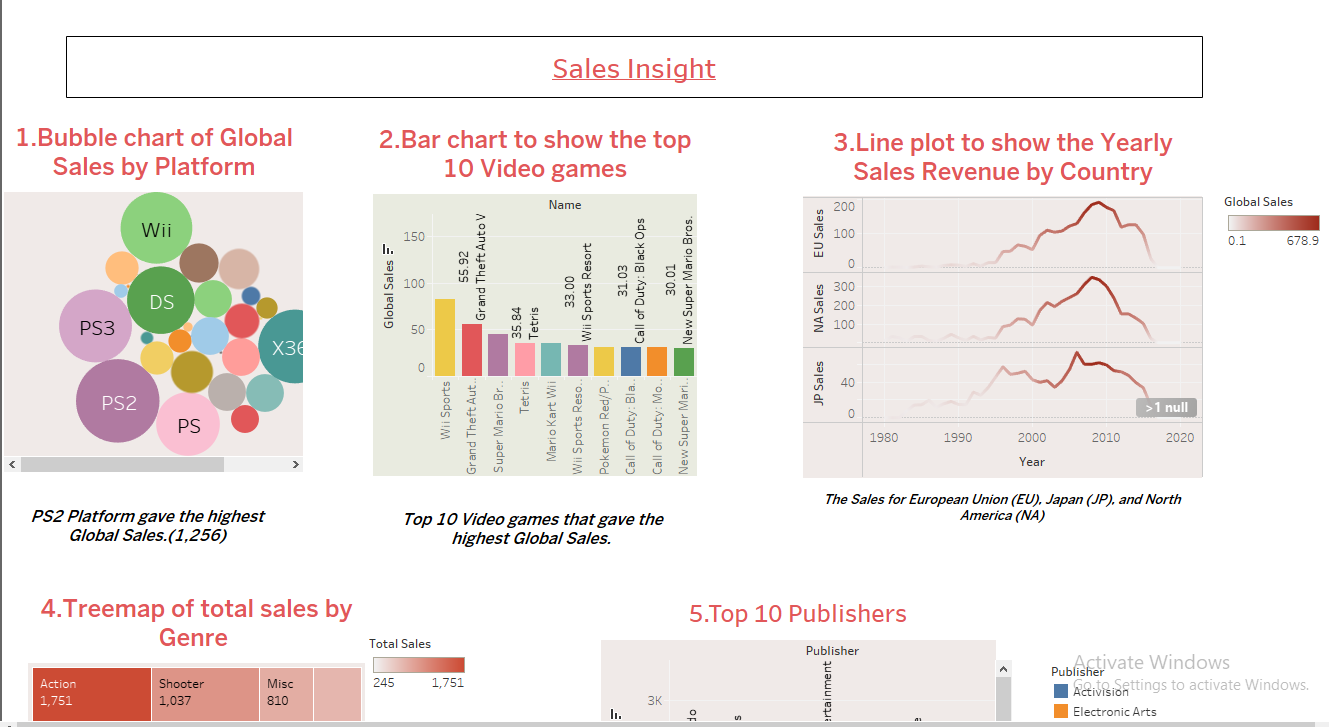

This screenshot's page, from the dashboard's own definition file:
{"tool":"tableau","page":{"name":"Dashboard 1","canvas":[1000,1000],"units":"permille","ordinal":0},"visuals":[{"type":"text","box":[48.4,70.4,832.3,60.2]},{"type":"worksheet","title":"Sheet 1","mark":"Circle","box":[2.6,150.9,219.3,345.4]},{"type":"worksheet","title":"Sheet 2","mark":"Automatic","rows":["Global_Sales"],"cols":["Name"],"box":[272.9,153.7,237,346.3]},{"type":"worksheet","title":"Sheet 3","mark":"Line","rows":["EU_Sales","NA_Sales","JP_Sales"],"cols":["Year"],"box":[588,156.5,292.7,345.4]},{"type":"legend","title":"Sheet 3","param":"[federated.0gh6z0h1s625r61esl8j80jw0f1v].[sum:Global_Sales:qk]","box":[896.4,223.2,72.9,126.9]},{"type":"text","box":[589.6,513,290.1,37]},{"type":"text","box":[4.2,517.6,208.3,64.8]},{"type":"text","box":[288,520.4,202.1,63.9]},{"type":"worksheet","title":"Sheet 4","mark":"Automatic","box":[20.8,611.1,246.3,292.6]},{"type":"worksheet","title":"Sheet 5","mark":"Automatic","rows":["Global_Sales"],"cols":["Publisher"],"box":[440.1,613,300.5,299.1]},{"type":"legend","title":"Sheet 4","param":"[federated.0gh6z0h1s625r61esl8j80jw0f1v].[sum:Global_Sales:qk]","box":[269.8,655.6,72.9,150.9]},{"type":"legend","title":"Sheet 5","param":"[federated.0gh6z0h1s625r61esl8j80jw0f1v].[none:Publisher:nk]","box":[769.3,682.4,103.7,268.5]},{"type":"text","box":[522.9,916.7,139.1,27.8]},{"type":"text","box":[19.3,921.3,175.5,27.8]}]}

Visuals, with their boxes on the dashboard's canvas, which has no fixed pixel size, in thousandths of its width and height (x1, y1, x2, y2). These are canvas units, not pixel positions in the 1329x727 screenshot, which may show the page scaled, cropped or inside an application window:
text: 48/70/881/131
"Sheet 1" worksheet (Circle marks): 3/151/222/496
"Sheet 2" worksheet: 273/154/510/500
"Sheet 3" worksheet (Line marks): 588/156/881/502
"Sheet 3" legend: 896/223/969/350
text: 590/513/880/550
text: 4/518/212/582
text: 288/520/490/584
"Sheet 4" worksheet: 21/611/267/904
"Sheet 5" worksheet: 440/613/741/912
"Sheet 4" legend: 270/656/343/806
"Sheet 5" legend: 769/682/873/951
text: 523/917/662/944
text: 19/921/195/949
